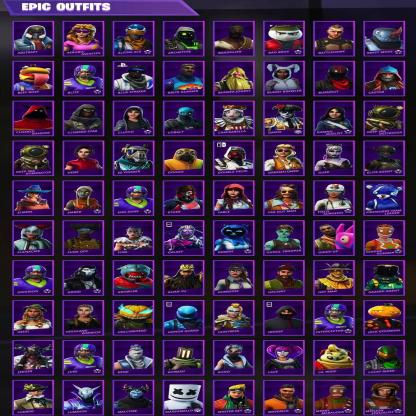apple: (377, 348, 397, 362)
bowl: (317, 302, 355, 332), (370, 26, 402, 47), (369, 106, 399, 118), (374, 264, 400, 277), (373, 384, 397, 397), (330, 385, 347, 397)
cake: (113, 262, 152, 293), (316, 343, 353, 370), (266, 24, 303, 50)
carrot: (316, 359, 354, 370)
donut: (165, 149, 201, 171), (364, 236, 404, 252), (20, 66, 51, 86), (122, 71, 152, 90), (118, 303, 152, 317), (368, 305, 402, 318), (23, 105, 49, 121), (164, 158, 195, 170), (174, 148, 197, 162), (376, 225, 397, 239), (76, 104, 96, 118)
person: (13, 200, 53, 253), (167, 342, 207, 378), (64, 343, 104, 375), (214, 383, 254, 414), (314, 183, 354, 214), (263, 384, 304, 414), (112, 105, 154, 134), (114, 342, 154, 372), (165, 184, 203, 215), (213, 302, 252, 332), (214, 24, 256, 51), (213, 343, 252, 372), (216, 262, 255, 291), (214, 184, 254, 212), (15, 184, 52, 214), (14, 225, 52, 254), (316, 23, 354, 52), (65, 145, 103, 174), (15, 344, 52, 373), (166, 64, 203, 93), (15, 24, 53, 52), (265, 342, 304, 369), (65, 186, 102, 214), (317, 263, 355, 290), (66, 304, 102, 332), (265, 262, 301, 290), (14, 305, 54, 330), (172, 386, 203, 414)
pottedplant: (115, 383, 154, 412), (14, 383, 52, 411)
teddy bear: (314, 142, 355, 175), (264, 223, 304, 254), (14, 265, 54, 294), (314, 107, 353, 136), (115, 143, 152, 173), (164, 264, 200, 293), (266, 64, 302, 93), (113, 226, 152, 252), (317, 66, 354, 92), (267, 305, 302, 331), (124, 186, 148, 209)
